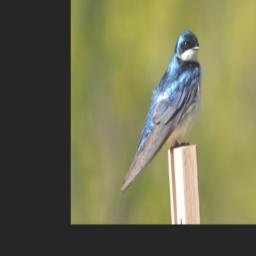Swallow: (121, 26, 204, 196)
